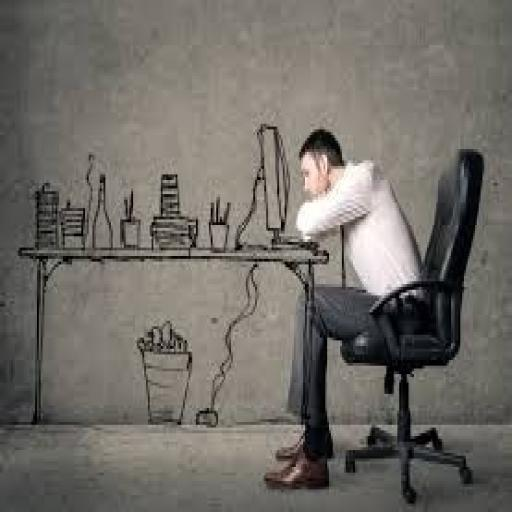sitting: (262, 124, 429, 492)
